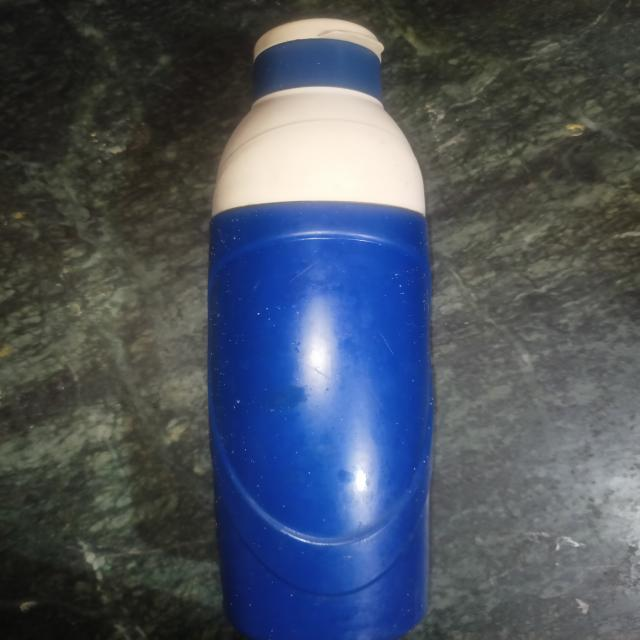plastic_bottle: (156, 32, 484, 640)
